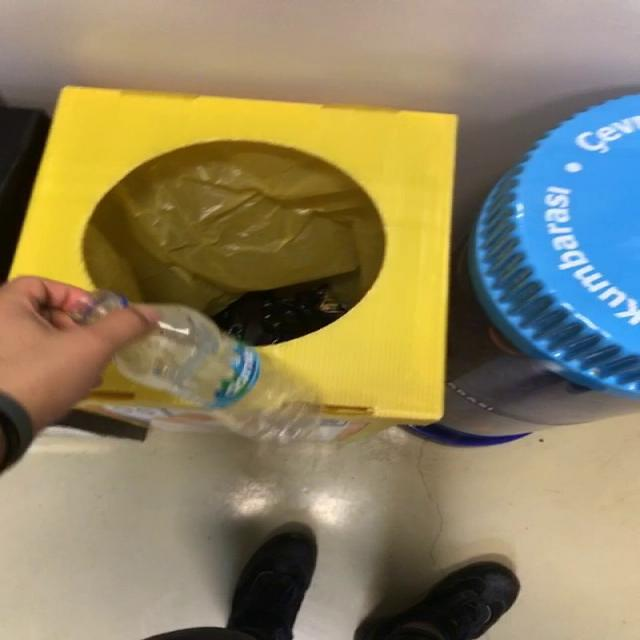plastic: (113, 305, 321, 442), (77, 291, 125, 322)
